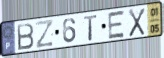6: (62, 17, 78, 44)
B: (16, 22, 36, 52)
E: (107, 9, 126, 41)
T: (83, 14, 99, 42)
X: (128, 7, 146, 38)
Z: (35, 18, 55, 50)
